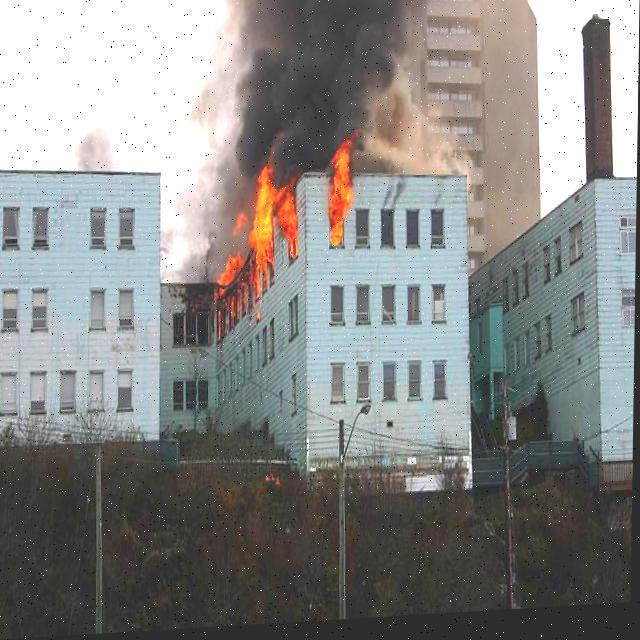Fire: (205, 172, 354, 284)
